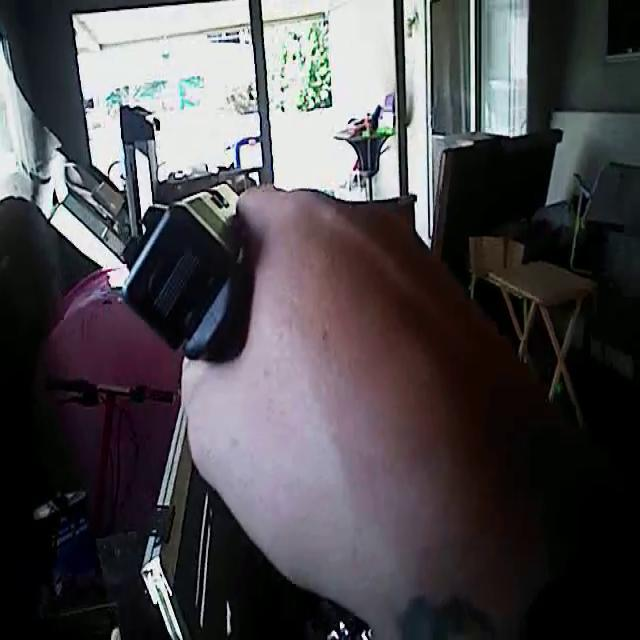gun: (72, 135, 304, 407)
